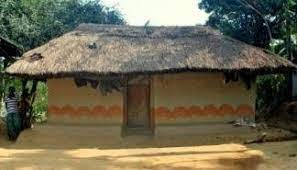Mud House: (23, 19, 277, 140)
